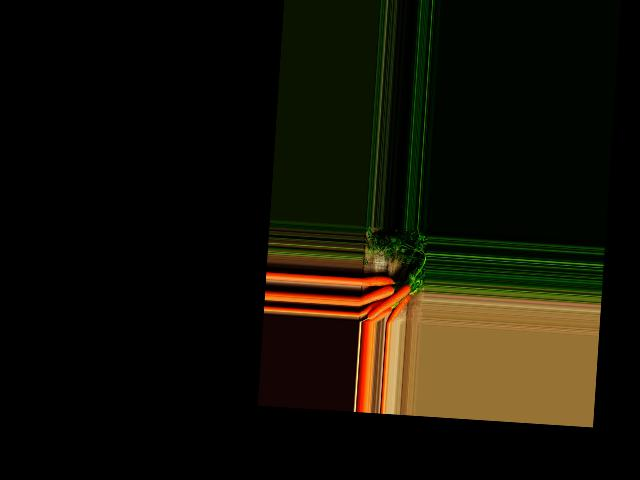carrot: (368, 304, 393, 306)
